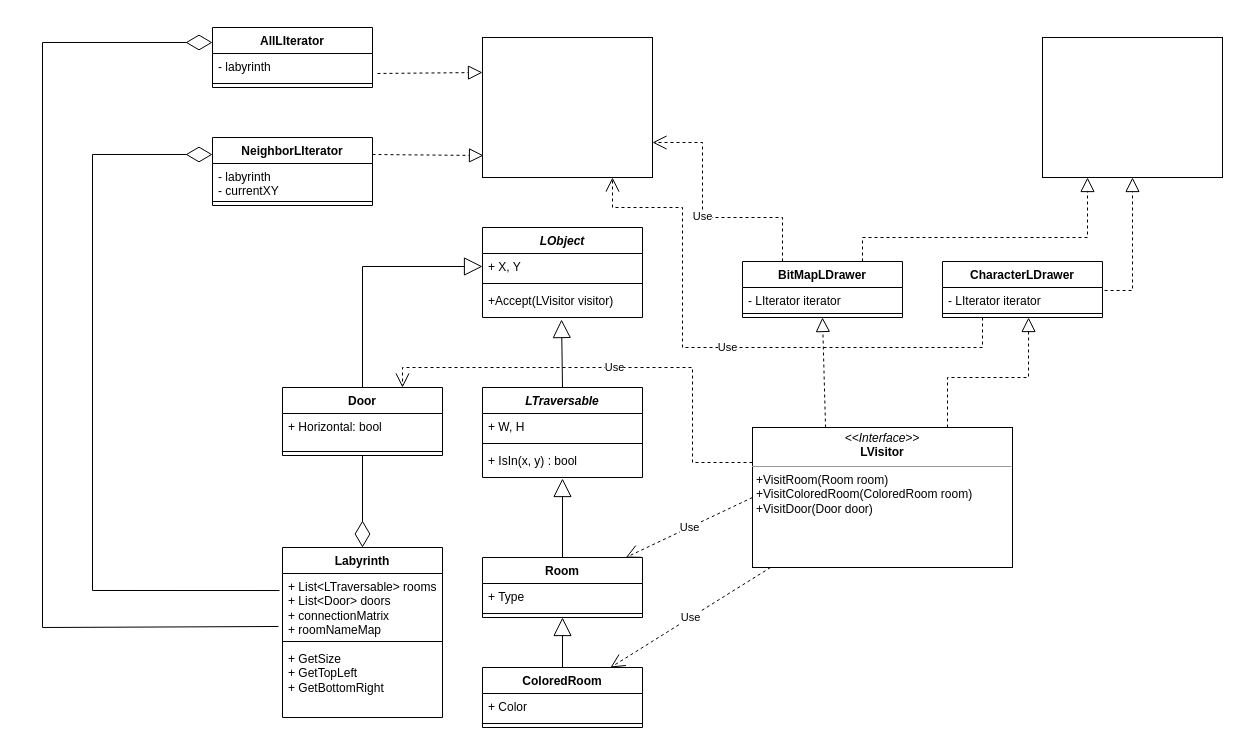
This 1240x745 diagram has some shape labels left out. Each missing label, with the centre of its shape:
"<<Interface>> LabyrinthDrawer +Draw(Labyrinth labyrinth)" belongs at point 1132,107.
"<<Interface>> LIterator + Begin() + Next() : bool + Get() : LObject" belongs at point 567,107.
